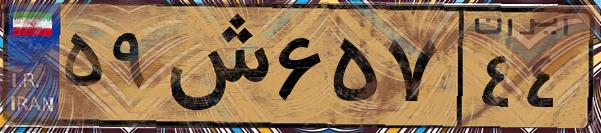4: (475, 38, 525, 113), (525, 38, 570, 115)
5: (330, 28, 385, 110), (57, 26, 110, 100)
6: (270, 28, 330, 110)
7: (385, 28, 445, 110)
9: (110, 28, 158, 98)
ش: (158, 12, 270, 120)
